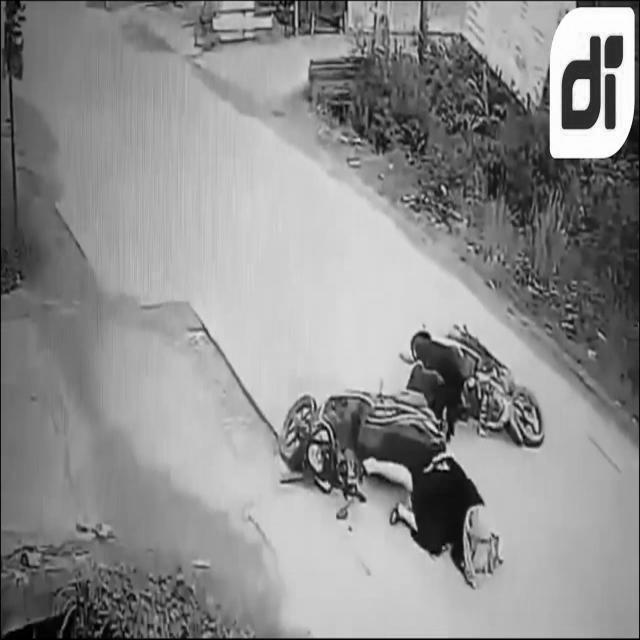accident: (260, 315, 556, 588)
